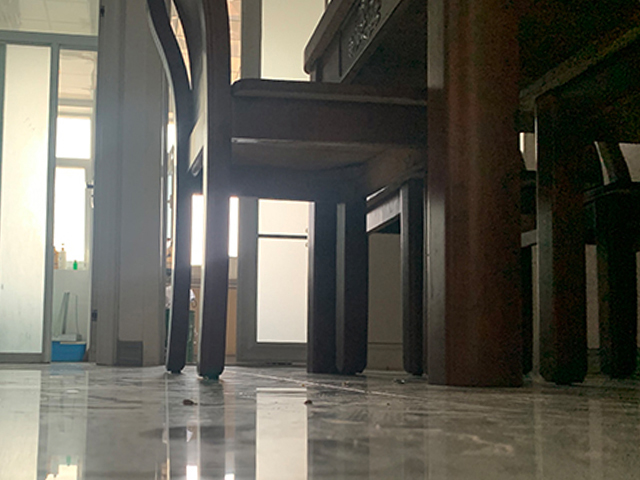stool: (144, 1, 428, 379)
